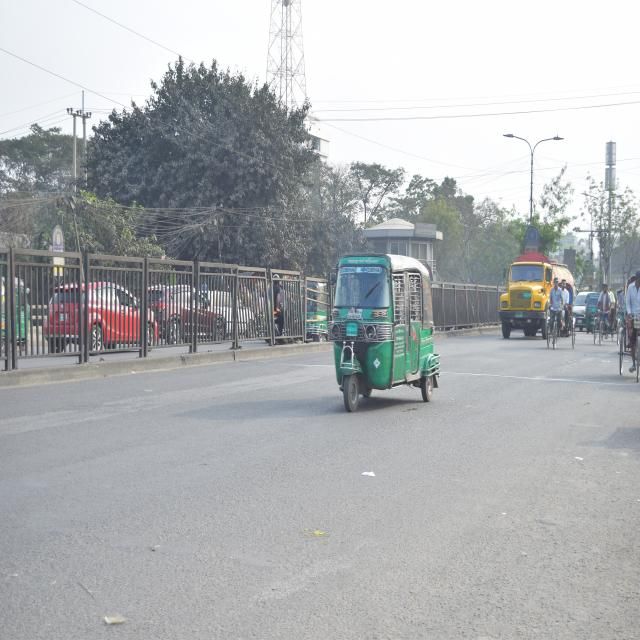car: (571, 284, 590, 328)
truck: (497, 240, 577, 346)
